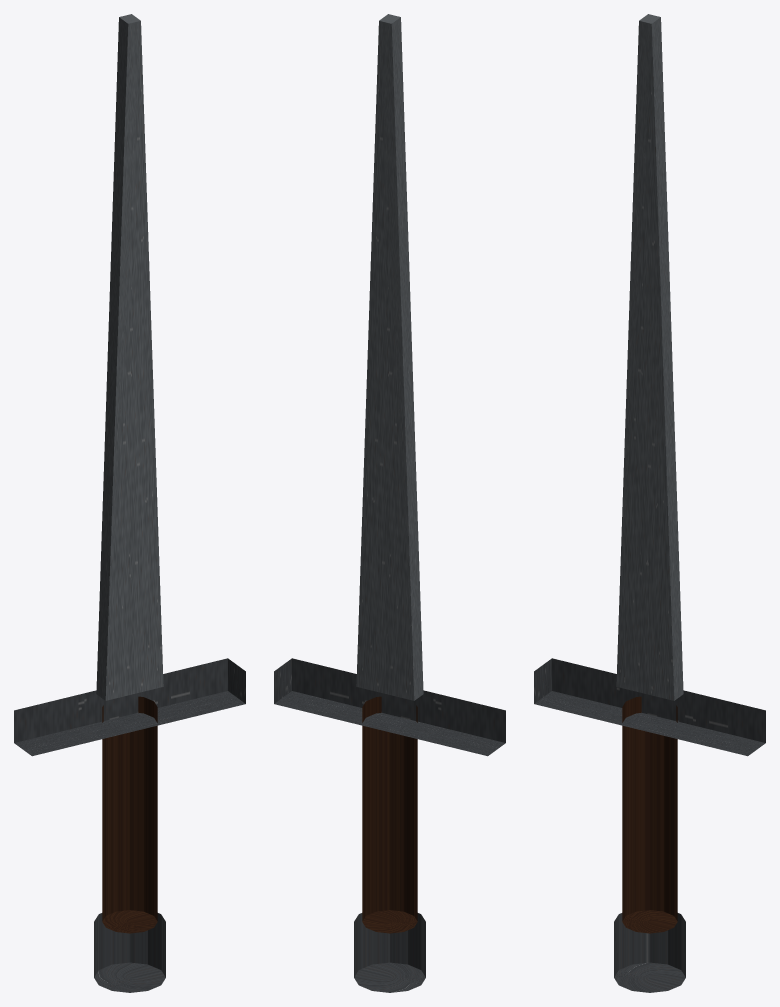
File: shortsword.glb
3 renders of one model, left to right at view 1: azimuth 30°, elevation 25°; view 2: azimuth 150°, elevation 25°; view 3: azimuth 330°, elevation 25°, orthographic.
Visible parts, largest first — view 1: shortsword; view 2: shortsword; view 3: shortsword.
Boxes of the visible parts, x1=… form: shortsword: x1=14, y1=14, x2=245, y2=992; shortsword: x1=274, y1=14, x2=505, y2=992; shortsword: x1=534, y1=14, x2=765, y2=992.
Bounding box in the file's own units: 0.24 × 1.03 × 0.07.
3 materials, 3 textured.
